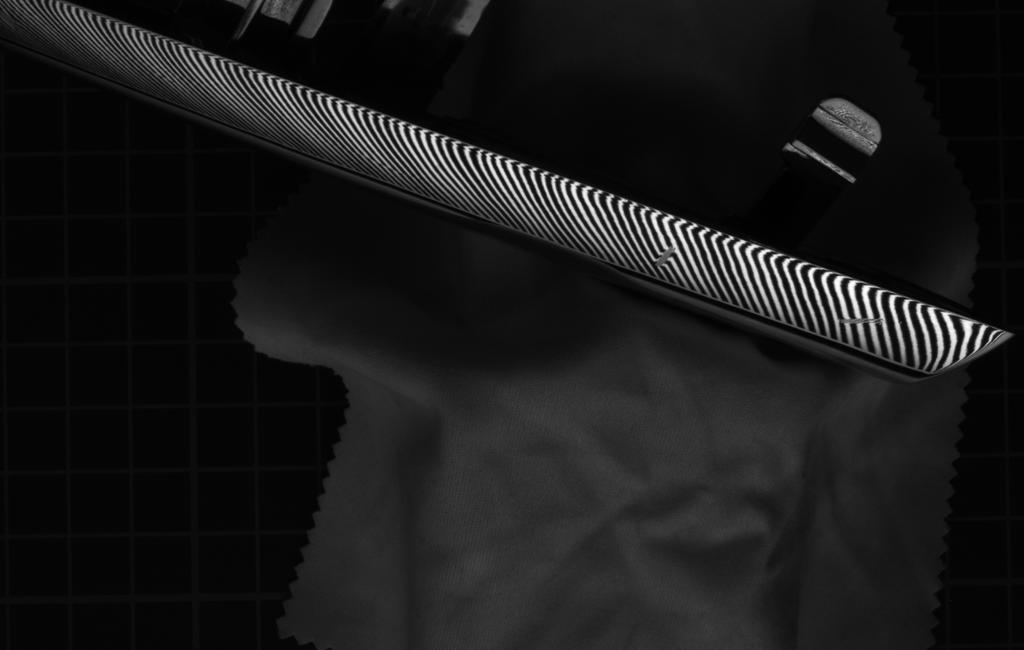Scratch: (832, 315, 891, 330), (652, 242, 675, 274)
